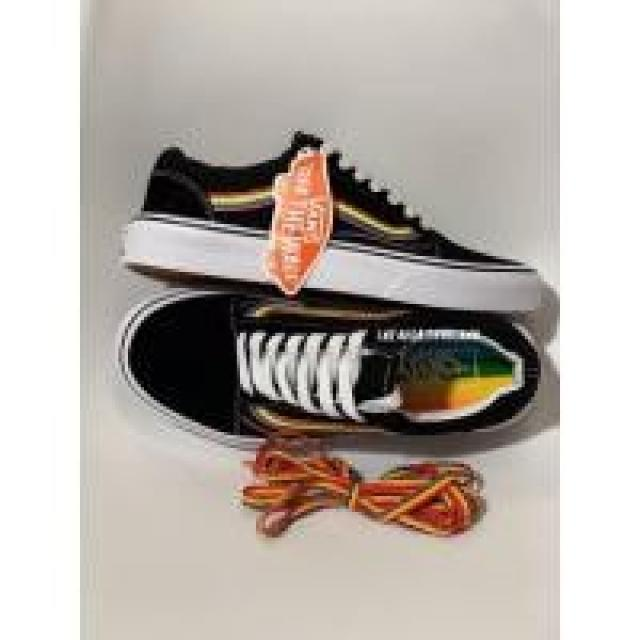shoe: (115, 129, 544, 441), (114, 283, 543, 452)
